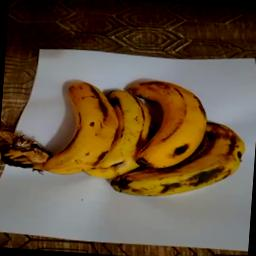Banana Unripe: (119, 70, 210, 172), (54, 79, 122, 180)
